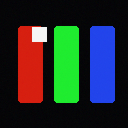1 square: (32, 27, 46, 41)
